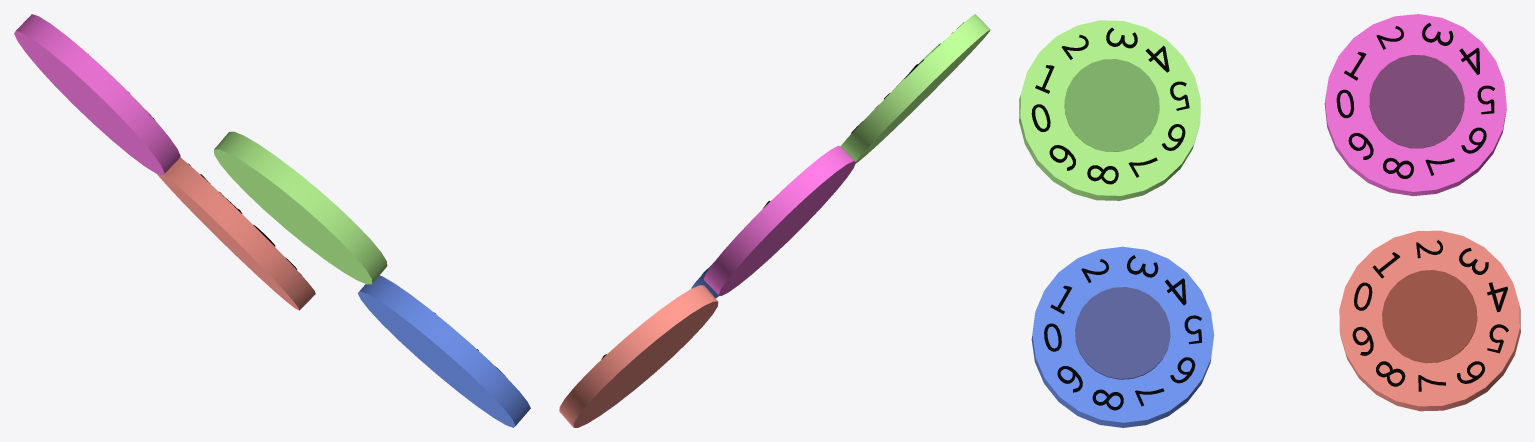
File: dial puzzle lock inner dials.fbx
3 views of the same model, side by side, from view 1: azimuth 30°, elevation 25°; view 2: azimuth 150°, elevation 25°; view 3: azimuth 270°, elevation 25° (orthographic). The views are drawn at different scales.
Visible parts, largest first — view 1: e6c30d43-a9aa-4e3a-8f0a-02145d496527; view 2: e6c30d43-a9aa-4e3a-8f0a-02145d496527; view 3: e6c30d43-a9aa-4e3a-8f0a-02145d496527.
Part boxes in pixels (x1=…): e6c30d43-a9aa-4e3a-8f0a-02145d496527: x1=14, y1=14, x2=530, y2=427; e6c30d43-a9aa-4e3a-8f0a-02145d496527: x1=559, y1=14, x2=990, y2=427; e6c30d43-a9aa-4e3a-8f0a-02145d496527: x1=1019, y1=14, x2=1520, y2=427.
Size of the model in its own units: 7365 by 7892 by 11902.
